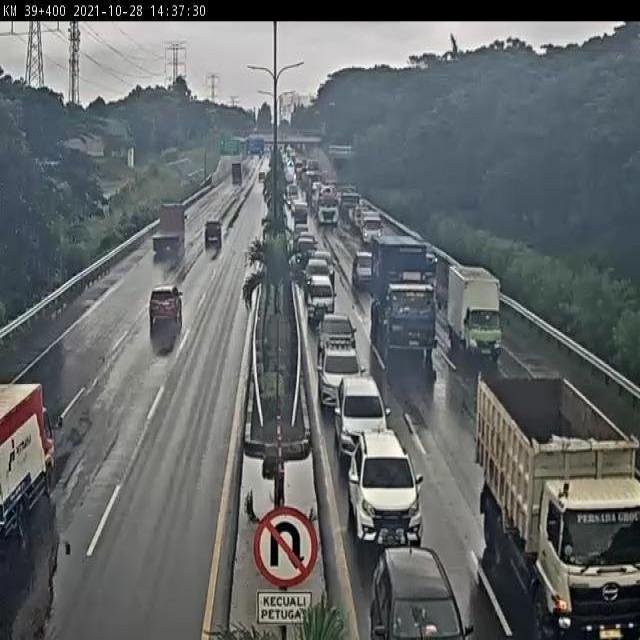big truck: (473, 369, 640, 640), (369, 234, 437, 358), (148, 201, 187, 263)
car: (365, 541, 465, 640), (346, 432, 420, 545), (335, 372, 386, 457), (318, 343, 364, 405), (317, 312, 355, 359), (149, 287, 185, 332), (304, 270, 333, 318), (199, 220, 224, 243)
small truck: (0, 380, 64, 545), (446, 263, 510, 368)
